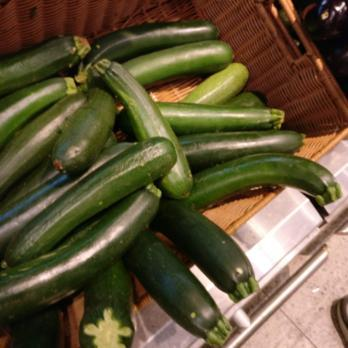Cucumber: (0, 50, 208, 348), (97, 15, 342, 200)
